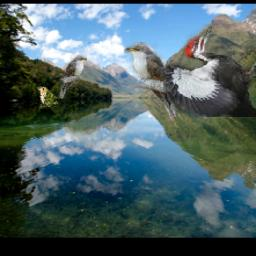Cuckoo: (125, 42, 177, 121), (59, 55, 88, 99)
Sparrow: (37, 87, 58, 110)
Woodpecker: (163, 24, 256, 117)
